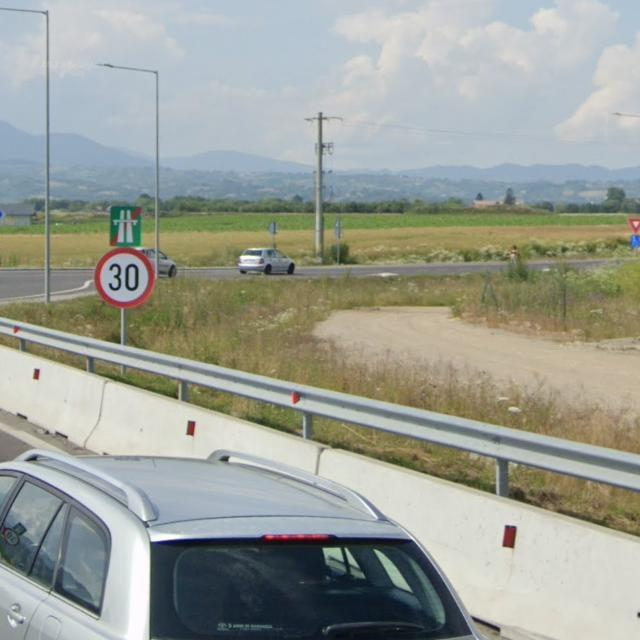forb_speed_over_30: (97, 246, 156, 308)
